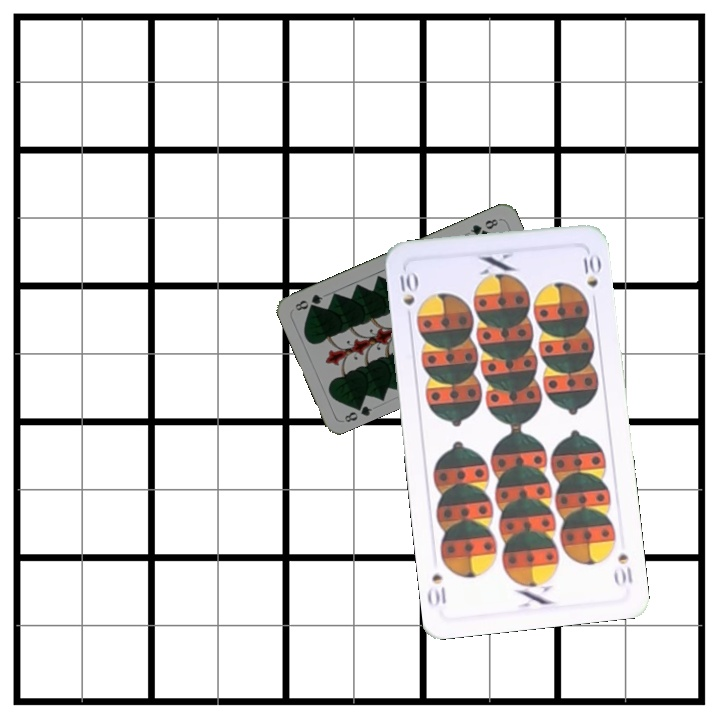G8: (339, 398, 375, 425), (466, 215, 501, 237)
S10: (395, 268, 420, 325), (610, 549, 635, 589)
